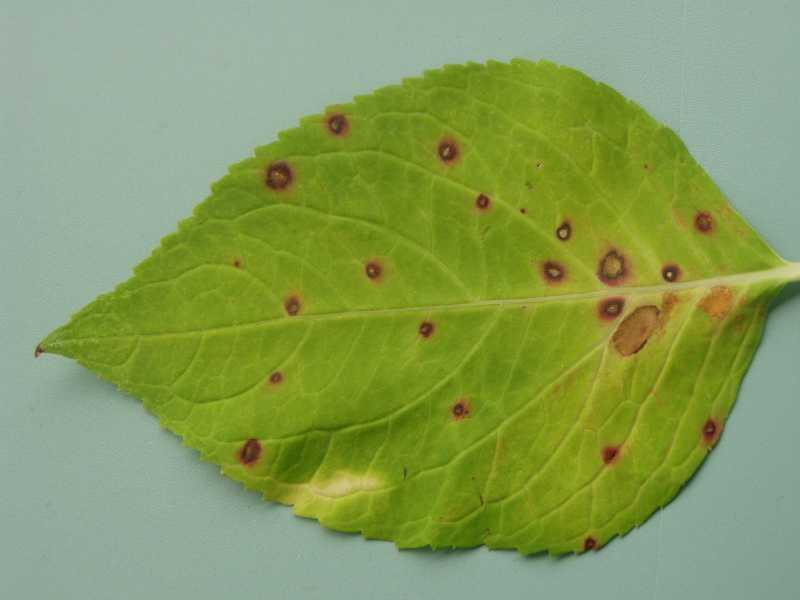black-spot: (240, 164, 686, 429)
